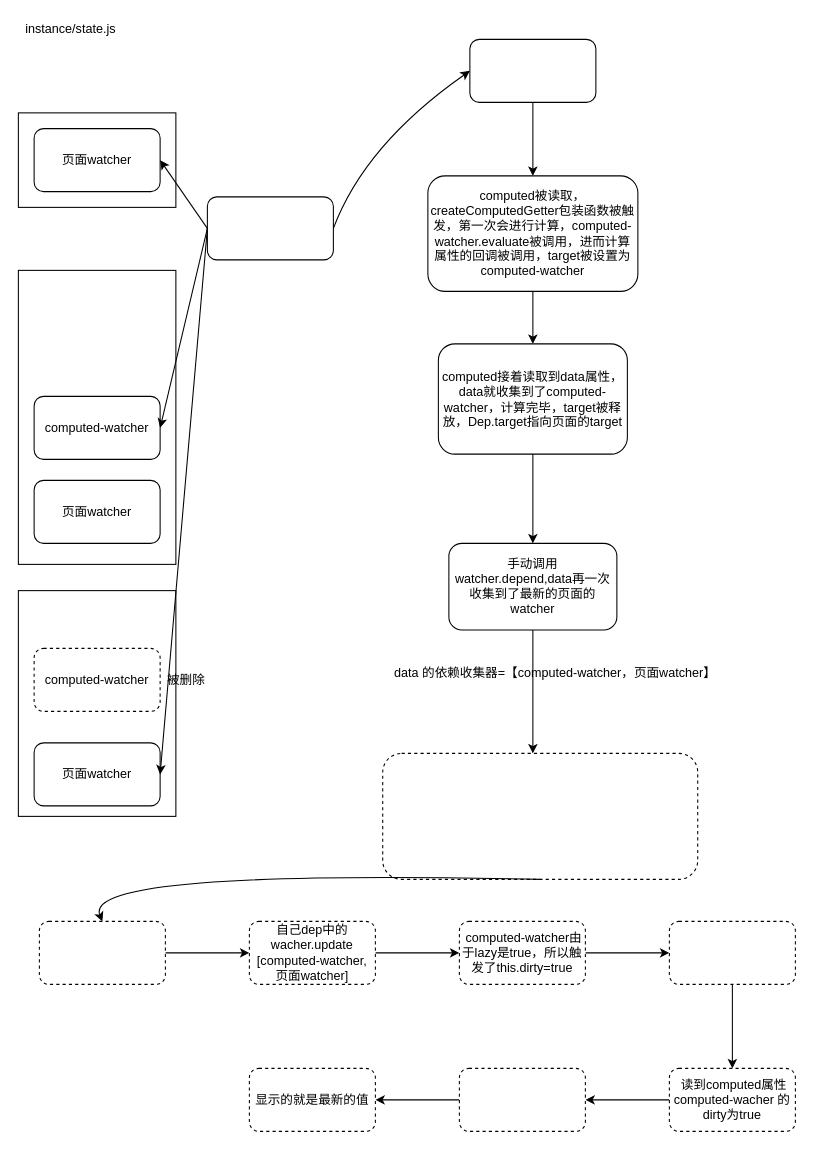
Some shapes in this 814 by 1150 pixel diagram are drawn without their labels. The shapes that lost their labels are listed below. From the top down, each one's centre as x and y in pixels, then its label:
point (532, 70): 页面更新，读取computed属性的时候，Dep.target被设置成了页面的watcher
point (269, 228): Dep.target
point (540, 815): 此时data如果改变，则正序遍历通知，computed 先更新，页面再更新，所以，页面才能读取到最新的 computed 值
point (101, 952): dada改变
point (731, 952): 页面watcher的render
point (521, 1099): computed-watcher.evaluate 重新计算
